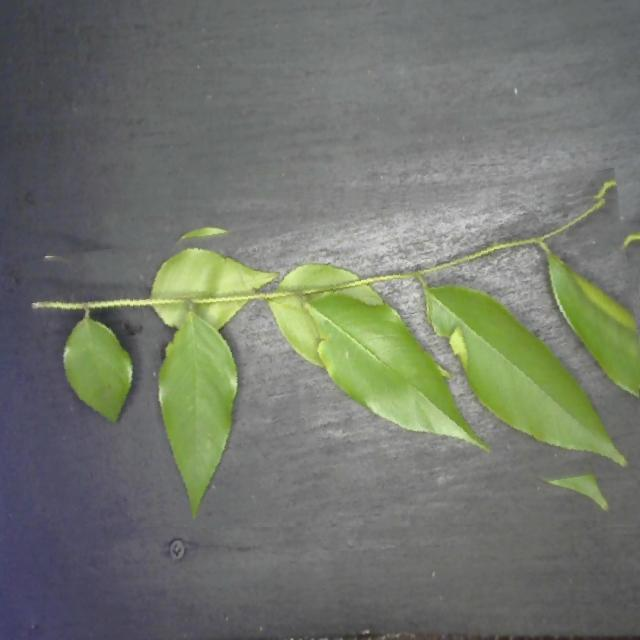biodegradable: (29, 190, 640, 527)
